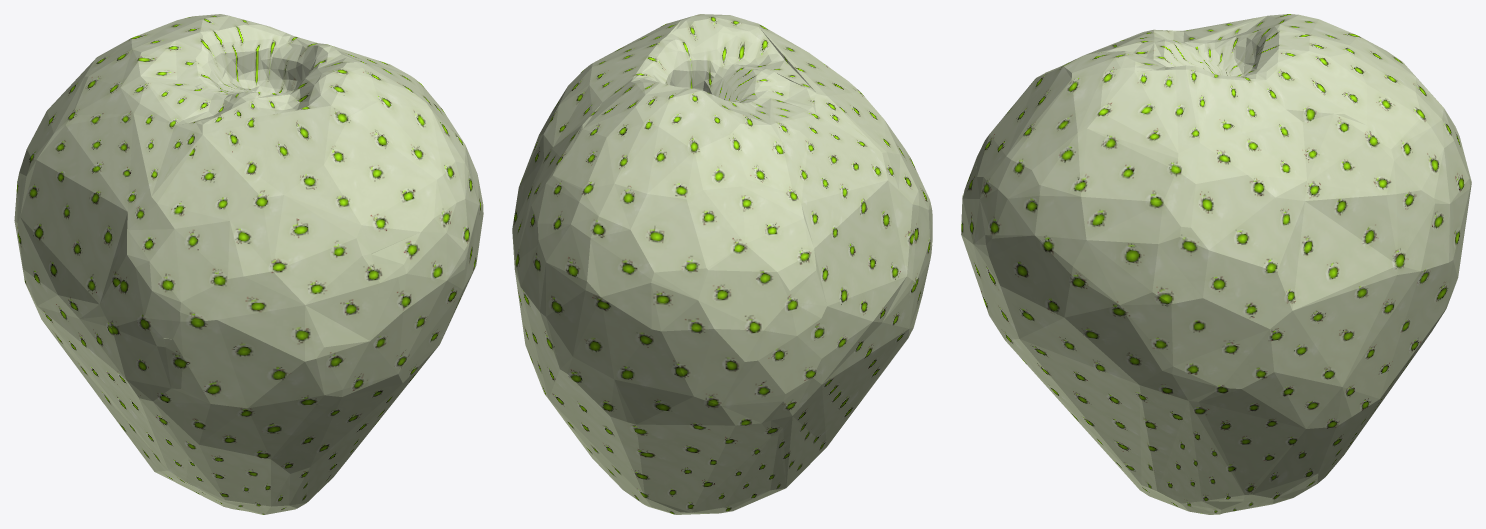
3 views of the same model, side by side, from view 1: azimuth 30°, elevation 25°; view 2: azimuth 150°, elevation 25°; view 3: azimuth 270°, elevation 25° (orthographic). The views are drawn at different scales.
Visible parts, largest first — view 1: _001_Meshed; view 2: _001_Meshed; view 3: _001_Meshed.
Boxes of the visible parts, x1=… form: _001_Meshed: x1=14, y1=14, x2=483, y2=514; _001_Meshed: x1=512, y1=14, x2=932, y2=514; _001_Meshed: x1=961, y1=14, x2=1471, y2=514.
Size of the model in its own units: 0.0955 by 0.1113 by 0.1115.
Materials: 1 (1 with a texture image).
